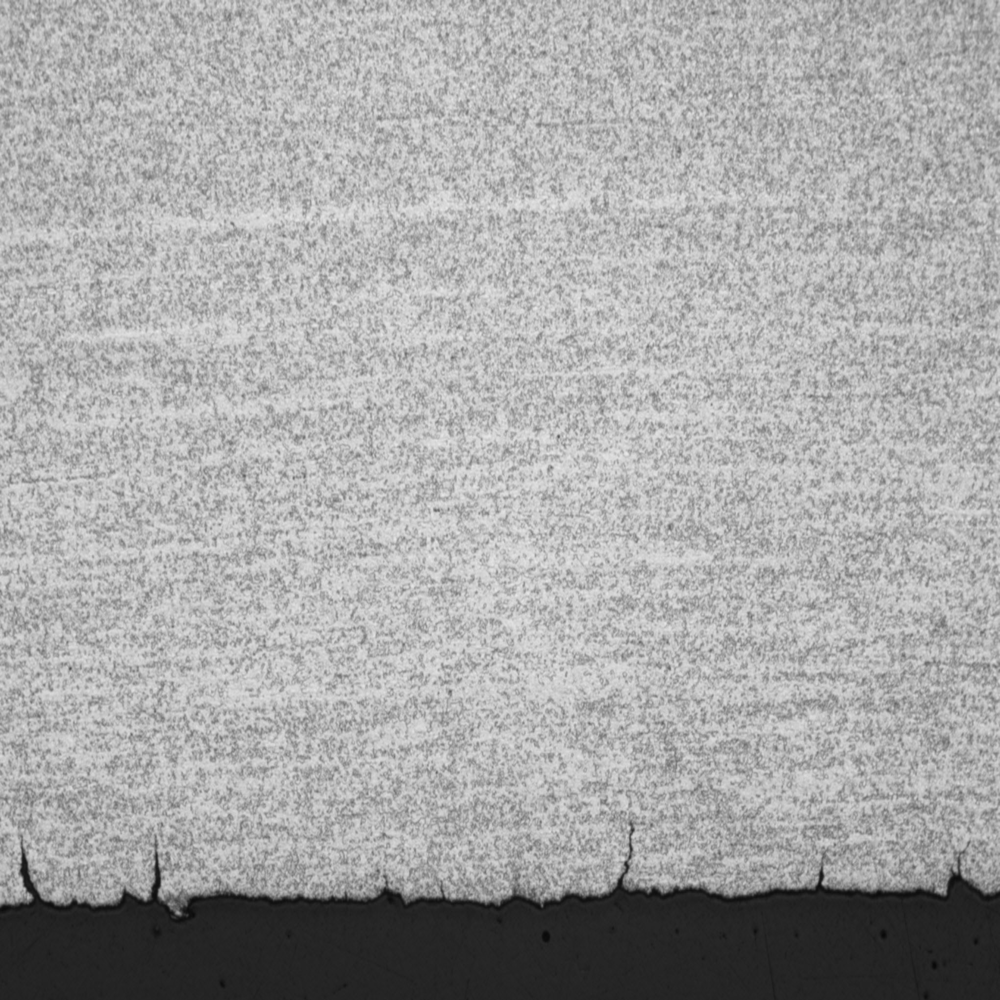crack: (600, 801, 649, 906), (3, 830, 61, 918), (130, 827, 182, 918), (929, 849, 988, 911), (798, 841, 836, 901)
